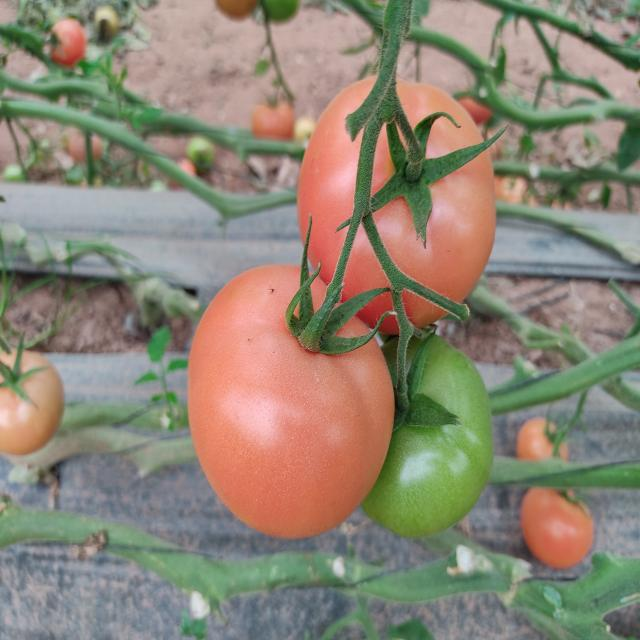Ripe Tomato: (189, 264, 394, 541), (298, 72, 494, 337), (521, 477, 595, 567)
Unripe Tomato: (349, 341, 494, 541)
